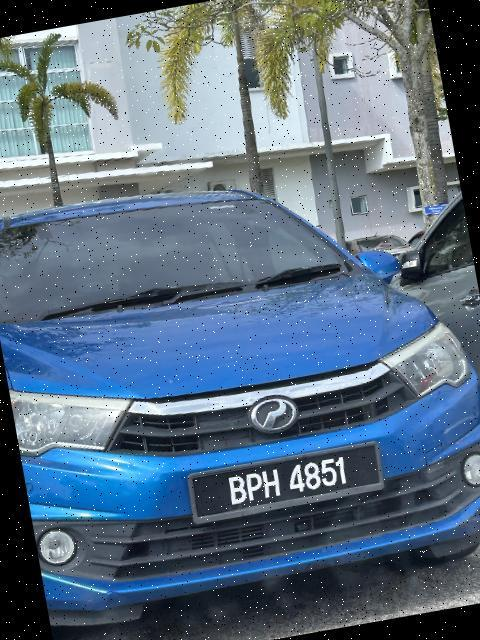BPH4851: (184, 436, 386, 524)
License_Plate: (184, 436, 386, 524)
car: (1, 136, 480, 640)
